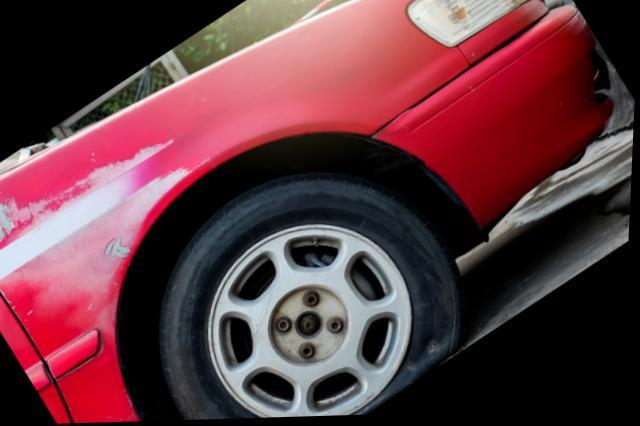tire flat: (165, 174, 469, 421)
